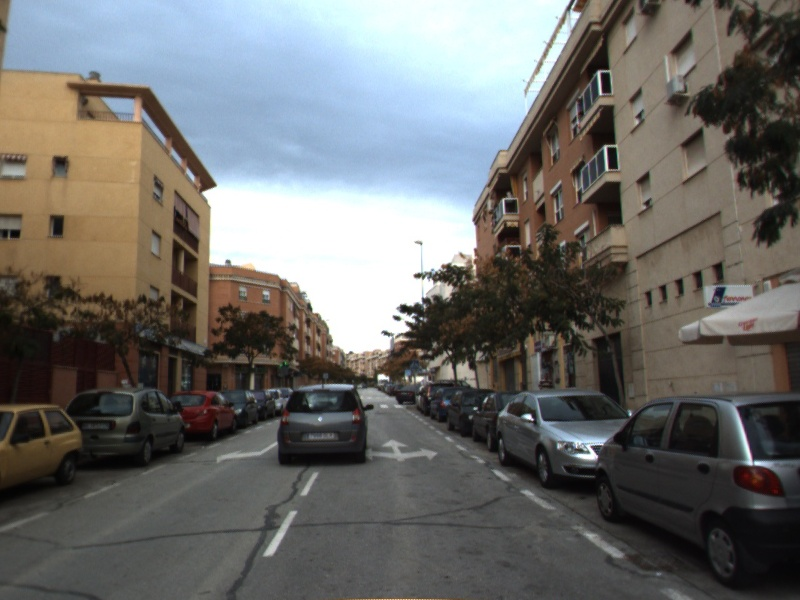STRAIGHT_LEFT_RIGHT: (364, 437, 440, 463)
